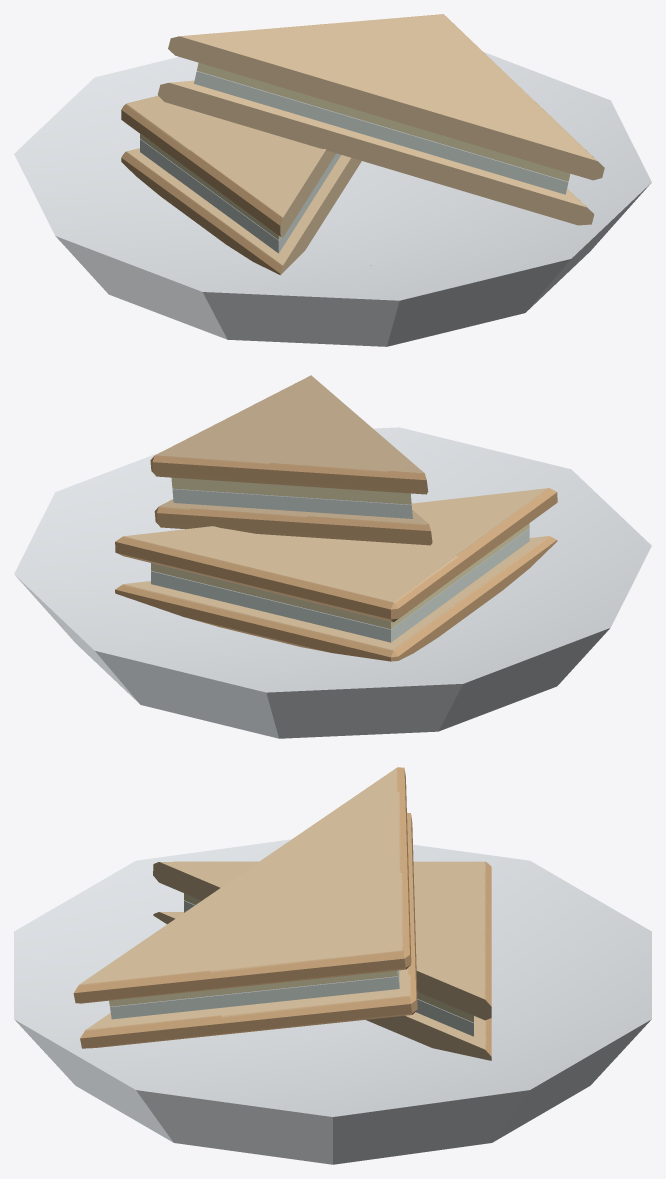
The model's file is eggMayo_sandwich.fbx.
3 renders of one model, top to bottom at view 1: azimuth 30°, elevation 25°; view 2: azimuth 150°, elevation 25°; view 3: azimuth 270°, elevation 25°, orthographic. The views are drawn at different scales.
Parts seen in each view (by area): view 1: egg mayo sandwich; view 2: egg mayo sandwich; view 3: egg mayo sandwich.
Boxes of the visible parts, x1=… form: egg mayo sandwich: x1=14, y1=14, x2=651, y2=346; egg mayo sandwich: x1=14, y1=375, x2=651, y2=738; egg mayo sandwich: x1=14, y1=767, x2=651, y2=1164.
Size of the model in its own units: 42.04 by 15.25 by 39.98.
Materials: 1 (1 with a texture image).
